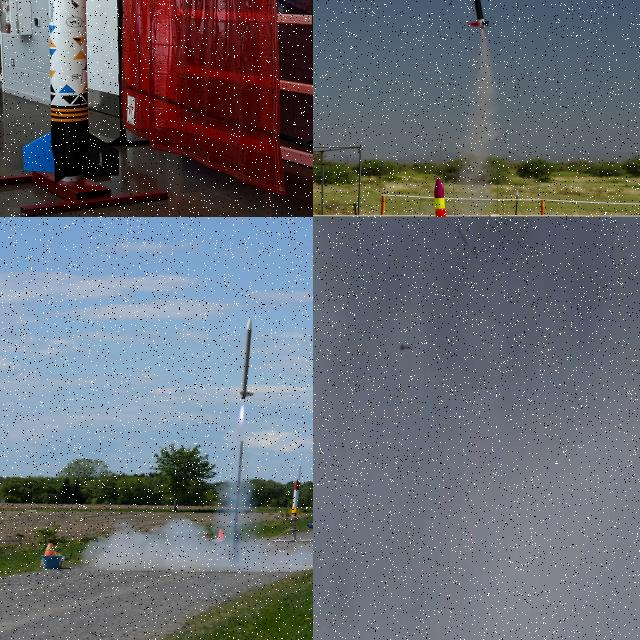Rocket: (23, 0, 119, 184), (237, 318, 254, 399), (468, 0, 492, 30), (400, 343, 412, 352)
